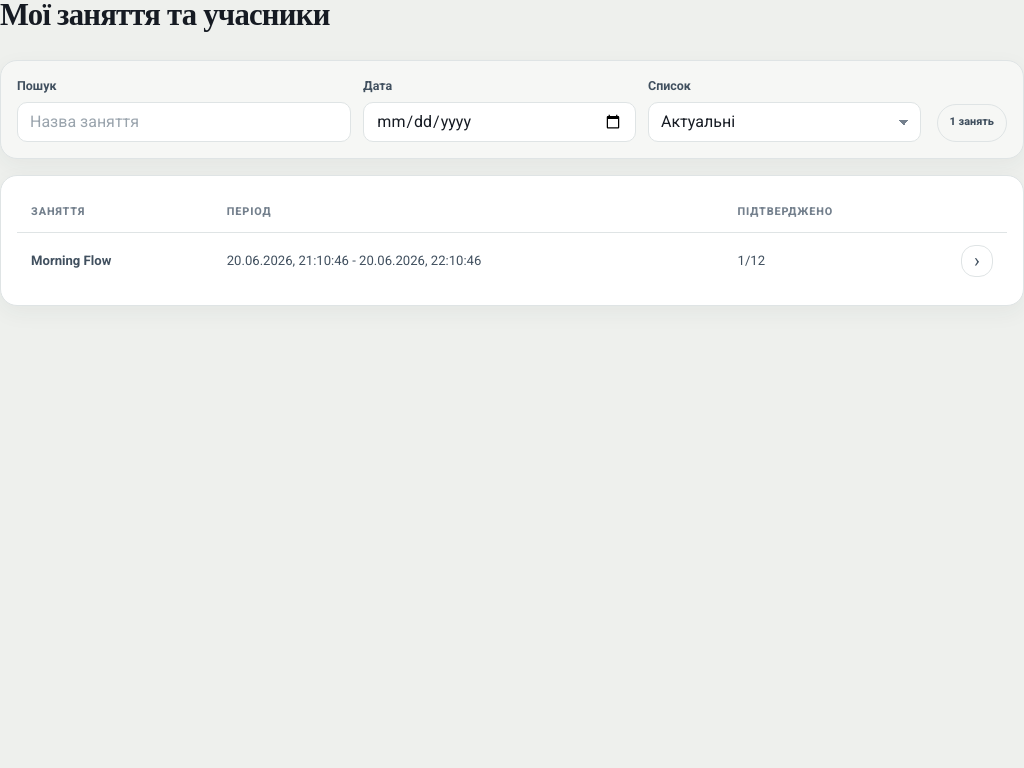
Test: MyClassesPage › shows attendees for selected trainer class
Click the button named "Деталі заняття" at (977, 261), box 961,245 -> 993,277
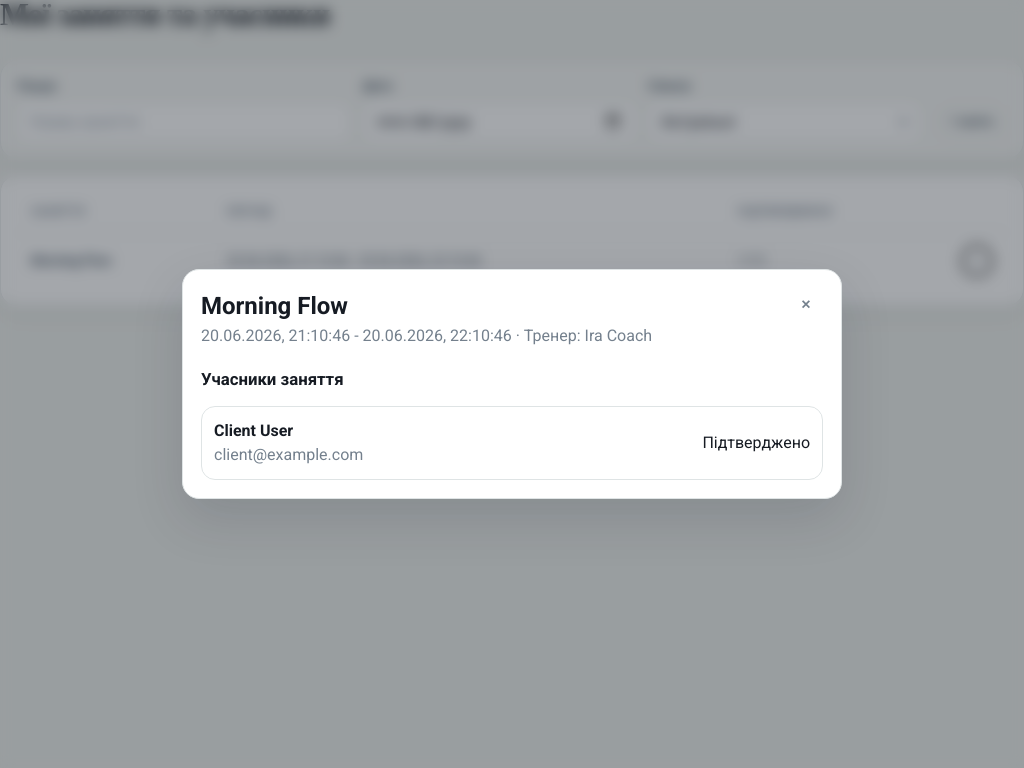
Now the text "Client User" is shown, box 214,421 -> 293,440
Now the heading "Morning Flow" is shown, box 201,292 -> 348,320
